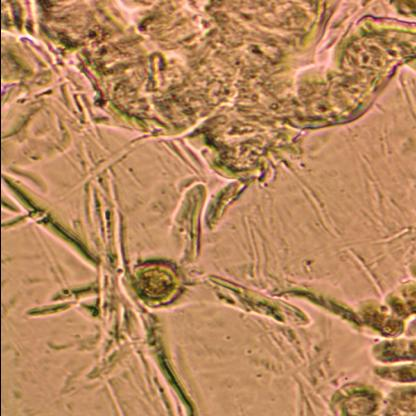Normal: (0, 0, 416, 199)
